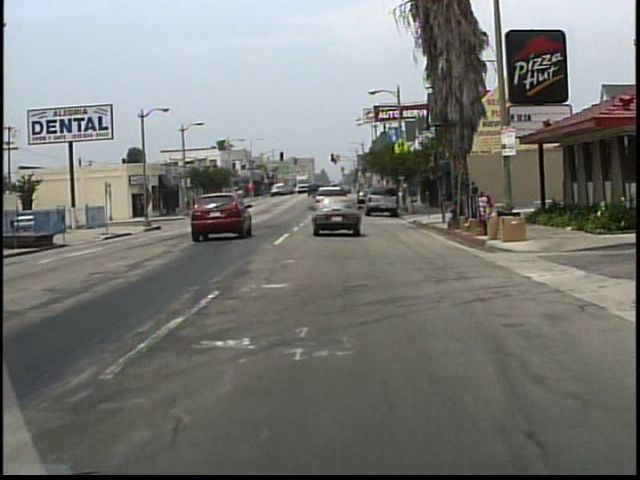person: (473, 181, 483, 213), (465, 182, 473, 208)
